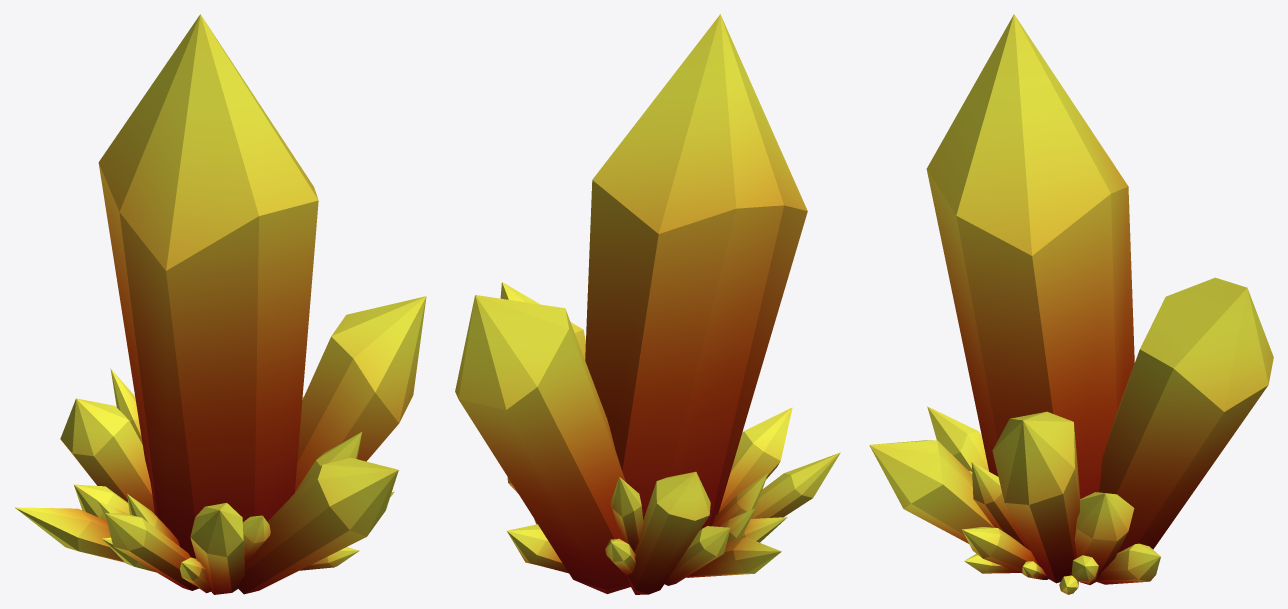
File: crystal_breakable3.fbx
The picture shows the model from 3 angles, left to right: view 1: azimuth 30°, elevation 25°; view 2: azimuth 150°, elevation 25°; view 3: azimuth 270°, elevation 25°; orthographic projection. The views are drawn at different scales.
Visible parts, largest first — view 1: crystal_breakable3; view 2: crystal_breakable3; view 3: crystal_breakable3.
Part boxes in pixels (x1=…): crystal_breakable3: x1=15, y1=14, x2=426, y2=594; crystal_breakable3: x1=455, y1=14, x2=840, y2=594; crystal_breakable3: x1=869, y1=14, x2=1273, y2=594.
Size of the model in its own units: 9.24 by 14.81 by 10.15.
